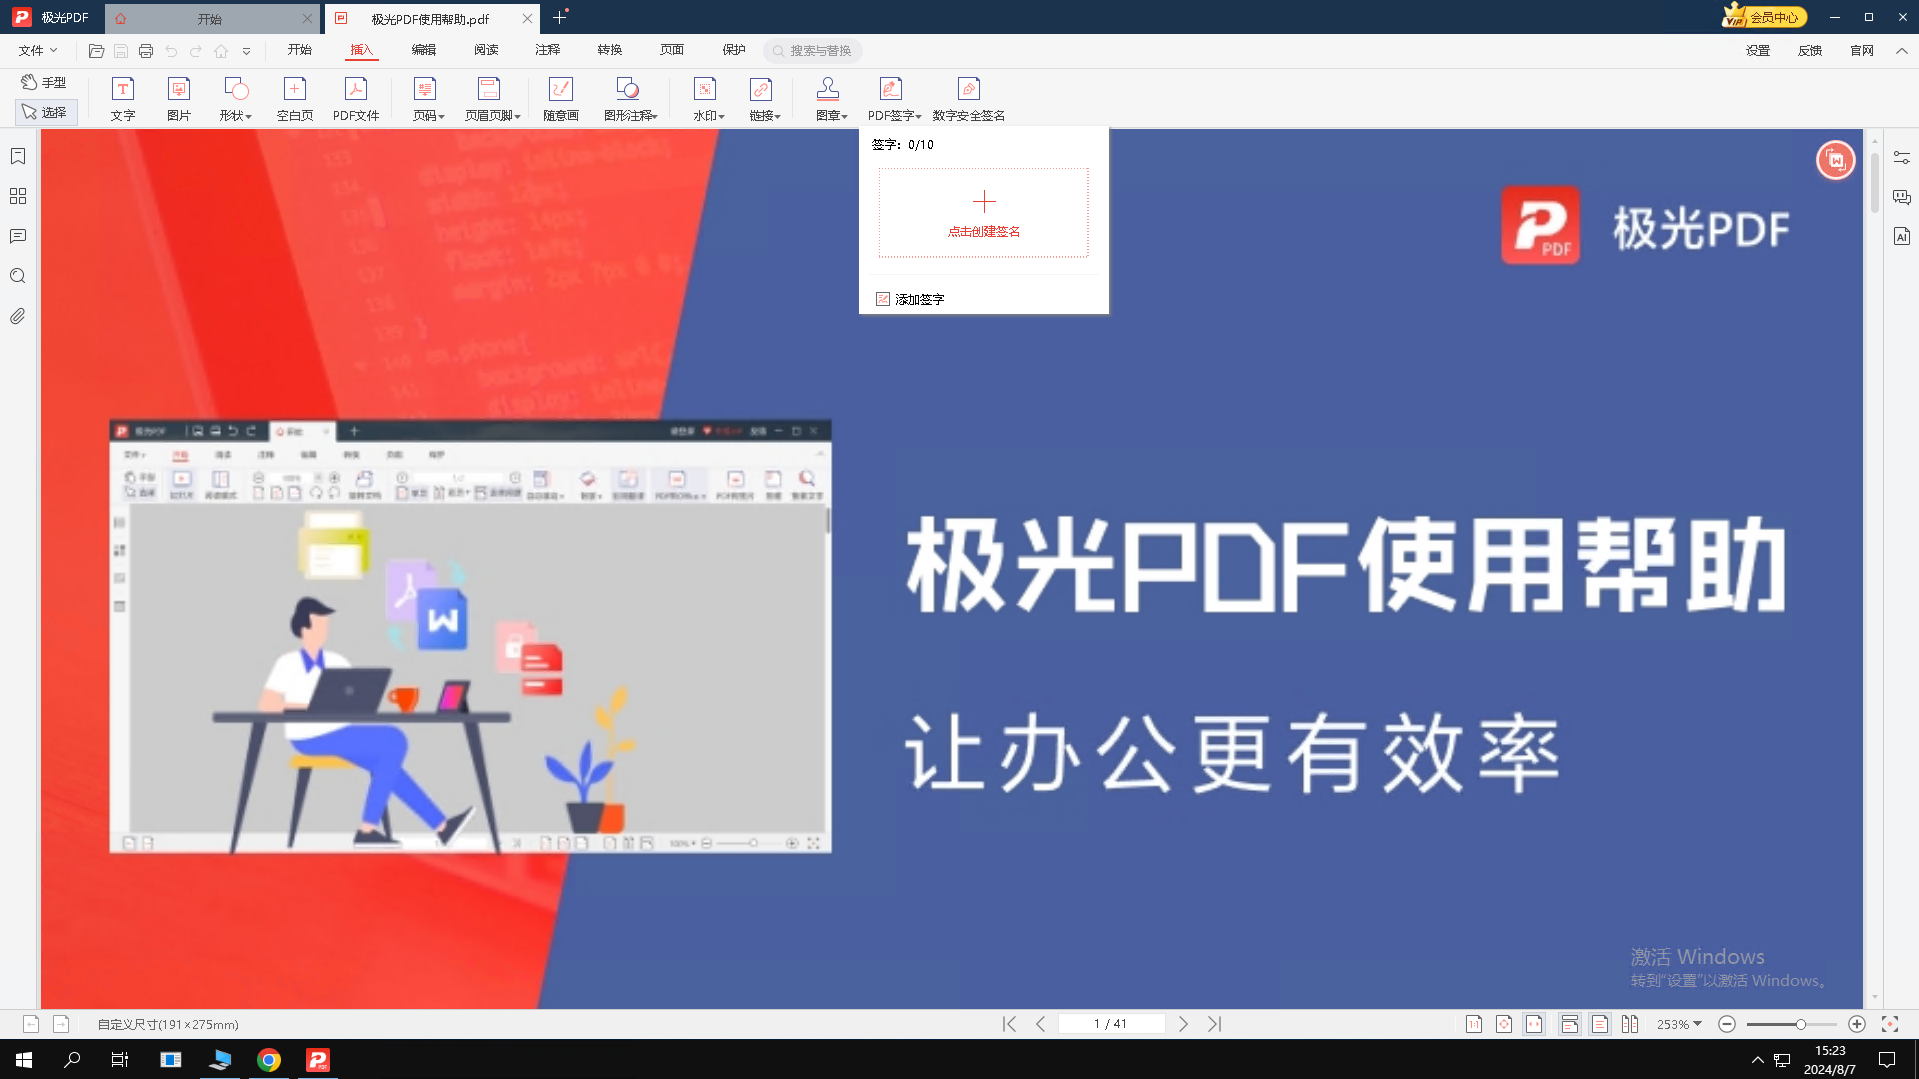Clickable: (873, 162, 1095, 258), (869, 283, 902, 312)
Root: (858, 126, 1111, 315)
